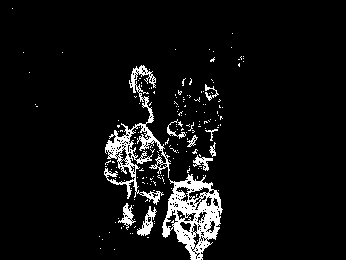person: (160, 157, 222, 260), (126, 122, 172, 235), (102, 120, 143, 228), (196, 76, 223, 157), (129, 62, 158, 124)
